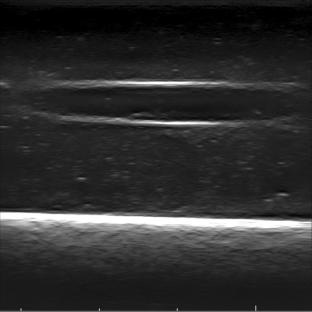vessel: (34, 80, 282, 126)
